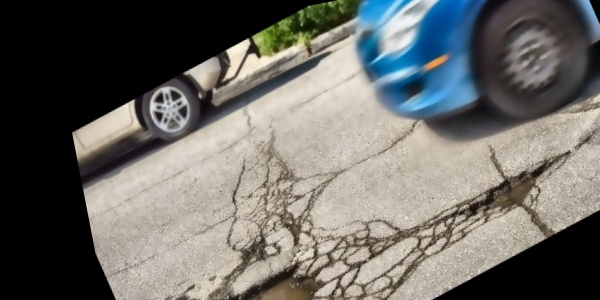pothole: (194, 241, 335, 300), (453, 157, 557, 233)
